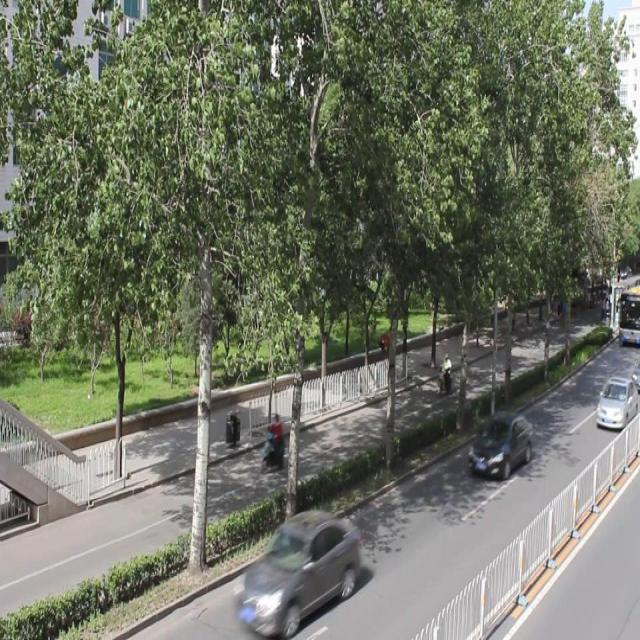car: (235, 509, 358, 632), (466, 410, 531, 480), (593, 376, 640, 430)
